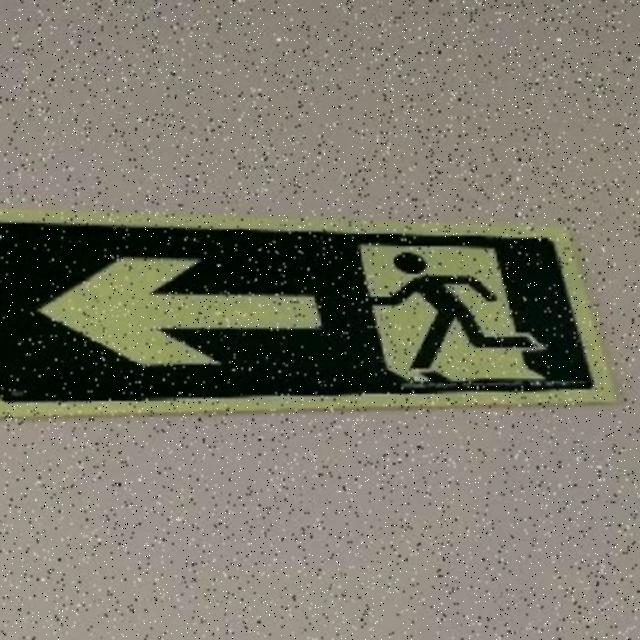emergency_exit: (1, 217, 619, 417)
